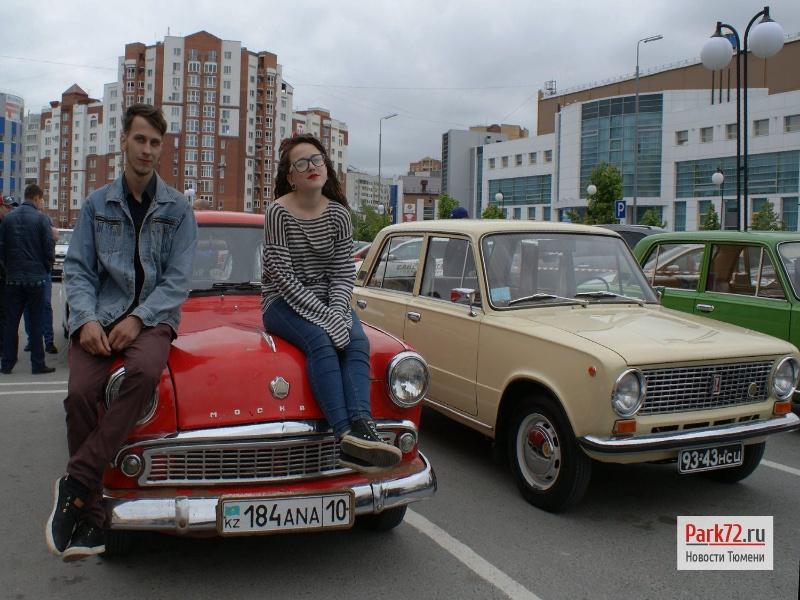car: (348, 220, 799, 509), (102, 209, 438, 547), (628, 232, 800, 345)
person: (46, 103, 198, 563), (259, 132, 402, 473), (1, 184, 57, 376)
plate: (222, 492, 350, 530), (681, 444, 742, 470)
